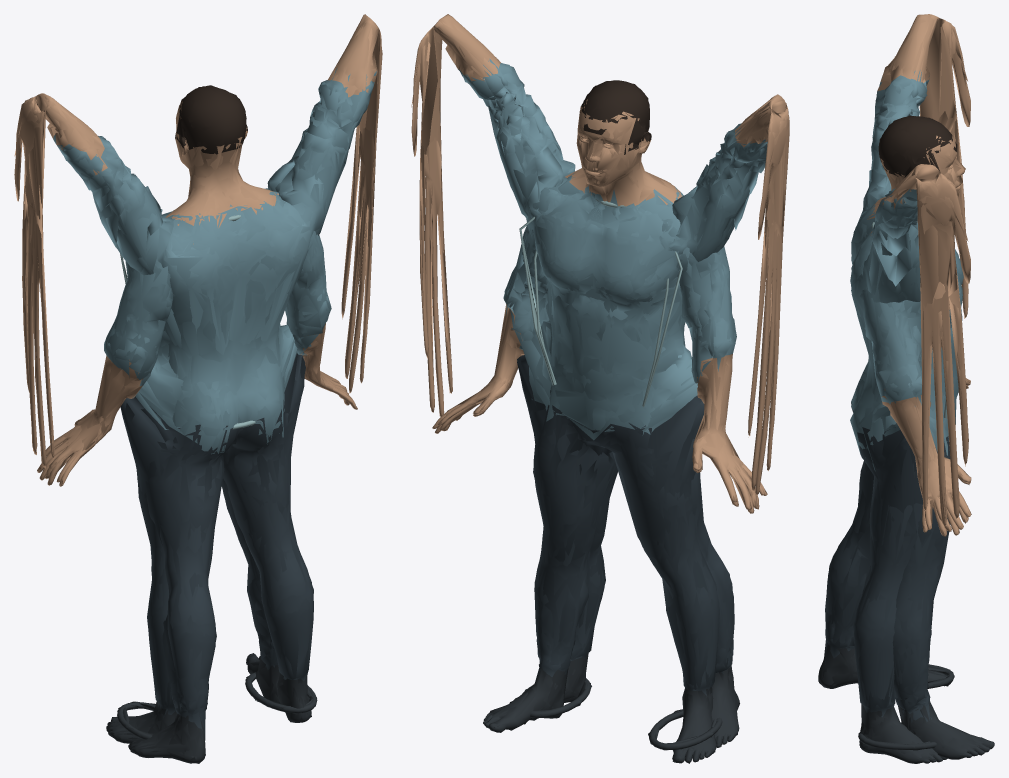
The model's file is public-citizens.glb.
3 views of the same model, side by side, from view 1: azimuth 30°, elevation 25°; view 2: azimuth 150°, elevation 25°; view 3: azimuth 270°, elevation 25° (orthographic). The views are drawn at different scales.
Visible parts, largest first — view 1: Anatomical citizen 0, Anatomical citizen 0.001, Anatomical citizen 1.002, Anatomical citizen 1, Anatomical citizen 2.002, Anatomical citizen 0.002, Anatomical citizen 1.001, Anatomical citizen 2.001, Anatomical citizen 2, Anatomical citizen 3, Anatomical citizen 3.002, Anatomical citizen 3.001; view 2: Anatomical citizen 0, Anatomical citizen 1.002, Anatomical citizen 1, Anatomical citizen 0.001, Anatomical citizen 2.002, Anatomical citizen 2, Anatomical citizen 0.002, Anatomical citizen 2.001, Anatomical citizen 3, Anatomical citizen 3.002, Anatomical citizen 1.001, Anatomical citizen 3.001 (+1 smaller); view 3: Anatomical citizen 0, Anatomical citizen 3, Anatomical citizen 3.002, Anatomical citizen 2, Anatomical citizen 3.001, Anatomical citizen 2.002, Anatomical citizen 2.001, Anatomical citizen 0.001, Anatomical citizen 0.002, Anatomical citizen 1, Anatomical citizen 1.002, Anatomical citizen 1.001 (+1 smaller).
Boxes of the visible parts, x1,y1,x2,y2 form: Anatomical citizen 0: [37, 86, 357, 743]; Anatomical citizen 0.001: [37, 86, 354, 742]; Anatomical citizen 1.002: [14, 88, 356, 739]; Anatomical citizen 1: [14, 87, 250, 520]; Anatomical citizen 2.002: [42, 87, 351, 763]; Anatomical citizen 0.002: [38, 85, 356, 741]; Anatomical citizen 1.001: [16, 86, 348, 743]; Anatomical citizen 2.001: [42, 86, 352, 763]; Anatomical citizen 2: [39, 93, 352, 763]; Anatomical citizen 3: [231, 15, 381, 510]; Anatomical citizen 3.002: [51, 14, 382, 740]; Anatomical citizen 3.001: [39, 15, 381, 558]; Anatomical citizen 0: [435, 80, 764, 763]; Anatomical citizen 1.002: [442, 81, 789, 761]; Anatomical citizen 1: [500, 95, 789, 756]; Anatomical citizen 0.001: [437, 80, 763, 763]; Anatomical citizen 2.002: [435, 81, 767, 746]; Anatomical citizen 2: [432, 105, 767, 747]; Anatomical citizen 0.002: [435, 80, 763, 763]; Anatomical citizen 2.001: [432, 90, 765, 747]; Anatomical citizen 3: [411, 14, 713, 459]; Anatomical citizen 3.002: [411, 14, 751, 753]; Anatomical citizen 1.001: [450, 87, 789, 756]; Anatomical citizen 3.001: [412, 14, 764, 740]; Anatomical citizen 0: [851, 116, 970, 763]; Anatomical citizen 3: [852, 164, 970, 568]; Anatomical citizen 3.002: [851, 118, 968, 623]; Anatomical citizen 2: [818, 156, 994, 759]; Anatomical citizen 3.001: [853, 118, 968, 680]; Anatomical citizen 2.002: [819, 115, 993, 758]; Anatomical citizen 2.001: [818, 118, 994, 759]; Anatomical citizen 0.001: [851, 116, 969, 763]; Anatomical citizen 0.002: [850, 118, 969, 762]; Anatomical citizen 1: [852, 14, 970, 587]; Anatomical citizen 1.002: [851, 14, 968, 762]; Anatomical citizen 1.001: [851, 14, 968, 762].
Bounding box in the file's own units: 0.9741 × 1.78 × 0.4489.
